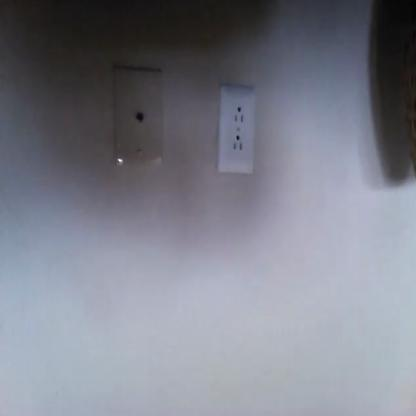OUTLET: (218, 88, 254, 172)
